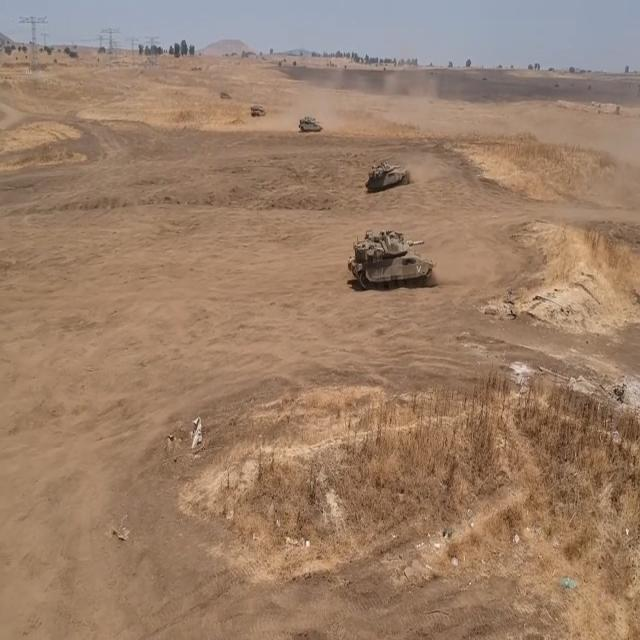tank: (342, 221, 444, 302), (360, 157, 420, 197), (298, 112, 326, 142), (248, 93, 270, 122), (222, 89, 232, 105)
